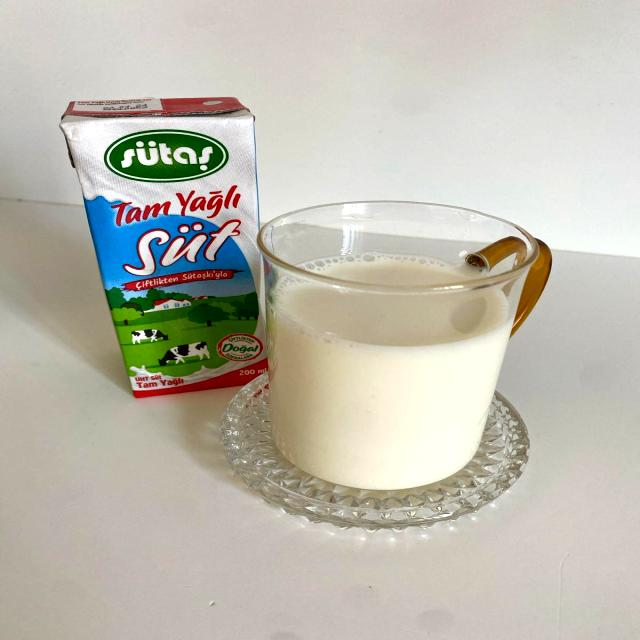milk: (255, 227, 549, 492), (83, 98, 273, 402)
